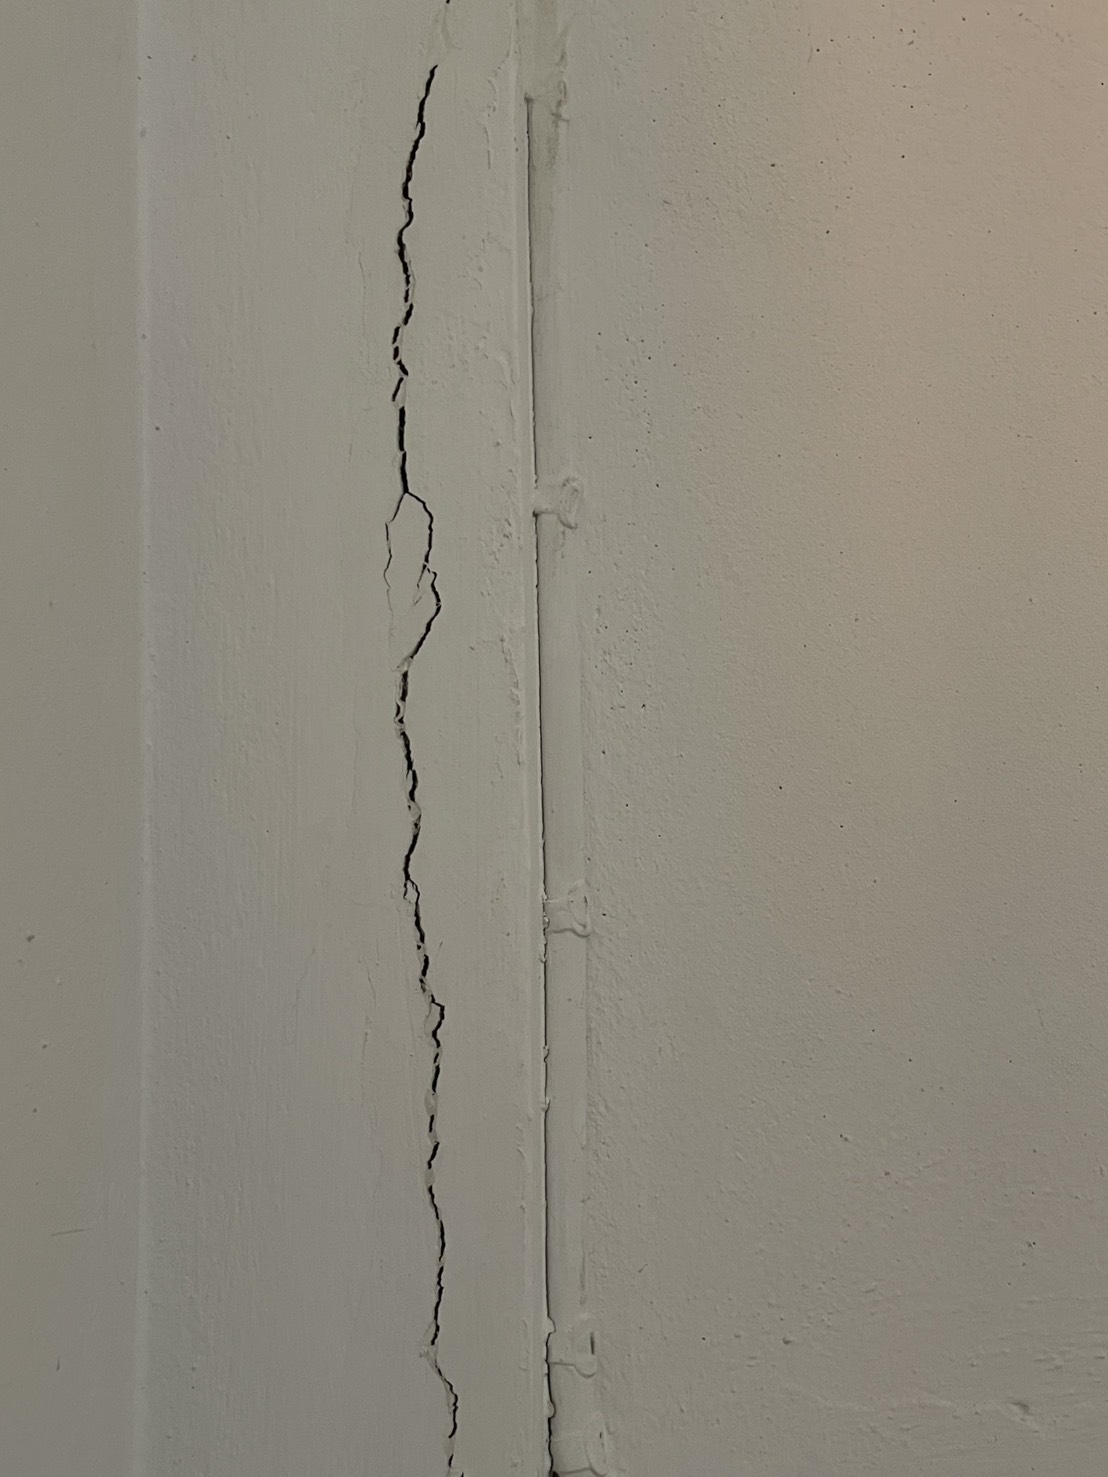Medium: (274, 49, 509, 1449)
